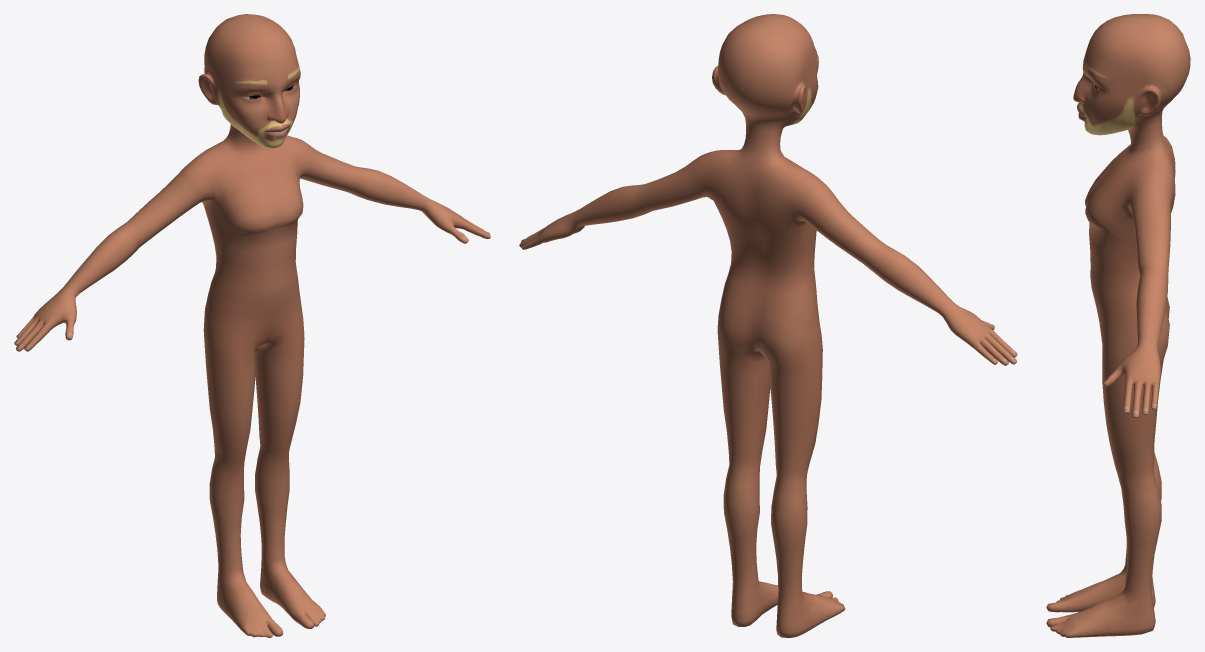
Rendered from frame_0075.glb.
The picture shows the model from 3 angles, left to right: view 1: azimuth 30°, elevation 25°; view 2: azimuth 150°, elevation 25°; view 3: azimuth 270°, elevation 25°; orthographic projection. The views are drawn at different scales.
Visible parts, largest first — view 1: frame_0075_head_geo; view 2: frame_0075_head_geo; view 3: frame_0075_head_geo.
Boxes of the visible parts, bbox=[...] form: frame_0075_head_geo: bbox=[14, 14, 490, 637]; frame_0075_head_geo: bbox=[519, 14, 1017, 637]; frame_0075_head_geo: bbox=[1046, 14, 1190, 637].
Size of the model in its own units: 1.28 by 1.5 by 0.3253.
Materials: 3 (3 with a texture image).
